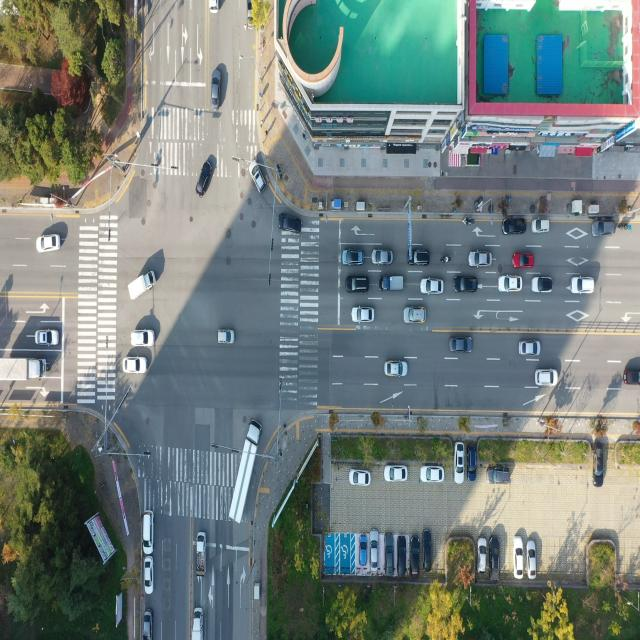car: (211, 69, 221, 109)
medium_truck: (228, 423, 260, 528)
small_truck: (128, 269, 156, 301), (197, 532, 207, 577), (379, 278, 403, 294)
